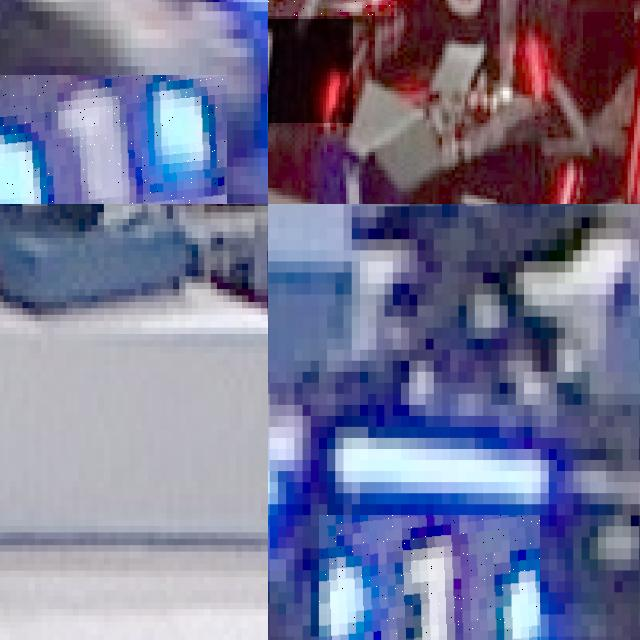B1: (0, 75, 226, 204), (318, 515, 540, 640)
R1: (268, 18, 352, 123)
